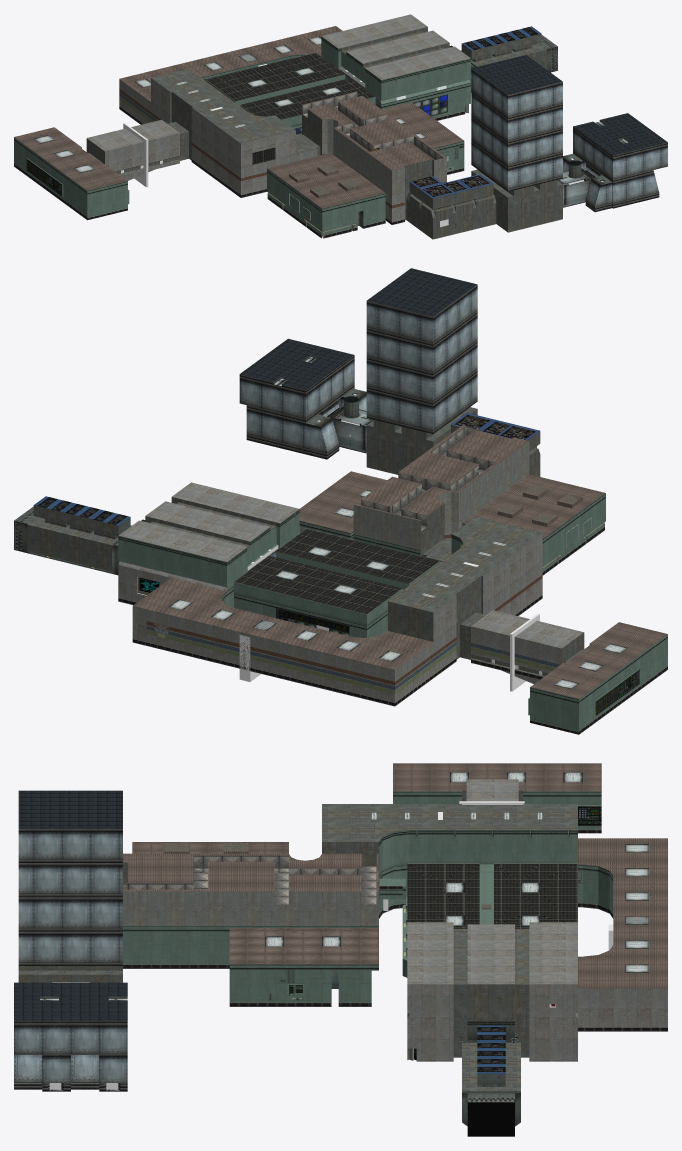
The model's file is half-_life_-_map_black_mesa.glb.
3 views of the same model, one above another, from view 1: azimuth 30°, elevation 25°; view 2: azimuth 150°, elevation 25°; view 3: azimuth 270°, elevation 25° (orthographic). The views are drawn at different scales.
Parts seen in each view (by area): view 1: HALFLIFE_C2A4E_W1B-material, HALFLIFE_C1A0_C1-material, HALFLIFE_LAB1_PANEL2-material, HALFLIFE_-0C2A4E_W1-material, HALFLIFE_LAB5_C2B-material, HALFLIFE_C1A0_LABW4-material, HALFLIFE_LAB1_C4D2-material, HALFLIFE_C1A0_W1D5-material, HALFLIFE_C1A0_LABW7-material, HALFLIFE_C1A0_LABW5-material, HALFLIFE_-1C2A4E_W1-material, HALFLIFE_DUCT_WALL02-material (+9 smaller); view 2: HALFLIFE_C1A0_C1-material, HALFLIFE_LAB1_PANEL2-material, HALFLIFE_C2A4E_W1B-material, HALFLIFE_-0C2A4E_W1-material, HALFLIFE_C1A0_W1D1-material, HALFLIFE_LAB5_C2B-material, HALFLIFE_C1A0_LABW7-material, HALFLIFE_LAB1_C4D2-material, HALFLIFE_C1A0_LABW5-material, HALFLIFE_-1C2A4E_W1-material, HALFLIFE_C1A0_LABW4-material, HALFLIFE_C1A0_W1D2-material (+10 smaller); view 3: HALFLIFE_C1A0_C1-material, HALFLIFE_LAB1_PANEL2-material, HALFLIFE_-0C2A4E_W1-material, HALFLIFE_C2A4E_W1B-material, HALFLIFE_C1A0_LABW5-material, HALFLIFE_LAB5_C2B-material, HALFLIFE_-1C2A4E_W1-material, HALFLIFE_LAB1_C4D2-material, HALFLIFE_C1A0_LABW7-material, HALFLIFE_C1A0_LABW4-material, HALFLIFE_C1A0_WX-material, HALFLIFE_DUCT_WALL02-material (+7 smaller).
Part boxes in pixels (x1,y1,x2,y2): HALFLIFE_C2A4E_W1B-material: [81, 27, 562, 239]; HALFLIFE_C1A0_C1-material: [14, 26, 463, 208]; HALFLIFE_LAB1_PANEL2-material: [471, 68, 667, 212]; HALFLIFE_-0C2A4E_W1-material: [87, 14, 470, 180]; HALFLIFE_LAB5_C2B-material: [206, 53, 375, 164]; HALFLIFE_C1A0_LABW4-material: [62, 67, 385, 238]; HALFLIFE_LAB1_C4D2-material: [471, 55, 667, 155]; HALFLIFE_C1A0_W1D5-material: [191, 132, 404, 224]; HALFLIFE_C1A0_LABW7-material: [205, 36, 470, 126]; HALFLIFE_C1A0_LABW5-material: [14, 54, 470, 219]; HALFLIFE_-1C2A4E_W1-material: [322, 119, 446, 194]; HALFLIFE_DUCT_WALL02-material: [302, 92, 443, 159]; HALFLIFE_C1A0_C1-material: [133, 425, 667, 698]; HALFLIFE_LAB1_PANEL2-material: [239, 284, 477, 459]; HALFLIFE_C2A4E_W1B-material: [27, 407, 591, 676]; HALFLIFE_-0C2A4E_W1-material: [118, 482, 583, 648]; HALFLIFE_C1A0_W1D1-material: [146, 609, 456, 706]; HALFLIFE_LAB5_C2B-material: [234, 529, 439, 614]; HALFLIFE_C1A0_LABW7-material: [118, 509, 463, 625]; HALFLIFE_LAB1_C4D2-material: [240, 268, 476, 390]; HALFLIFE_C1A0_LABW5-material: [221, 521, 667, 734]; HALFLIFE_-1C2A4E_W1-material: [353, 441, 529, 549]; HALFLIFE_C1A0_LABW4-material: [350, 493, 605, 734]; HALFLIFE_C1A0_W1D2-material: [471, 626, 561, 683]; HALFLIFE_C1A0_C1-material: [123, 763, 667, 988]; HALFLIFE_LAB1_PANEL2-material: [14, 828, 127, 1091]; HALFLIFE_-0C2A4E_W1-material: [407, 779, 577, 1061]; HALFLIFE_C2A4E_W1B-material: [18, 790, 577, 1091]; HALFLIFE_C1A0_LABW5-material: [123, 864, 613, 1006]; HALFLIFE_LAB5_C2B-material: [407, 863, 577, 928]; HALFLIFE_-1C2A4E_W1-material: [123, 891, 378, 925]; HALFLIFE_LAB1_C4D2-material: [14, 790, 127, 1020]; HALFLIFE_C1A0_LABW7-material: [379, 830, 577, 875]; HALFLIFE_C1A0_LABW4-material: [229, 791, 601, 1006]; HALFLIFE_C1A0_WX-material: [578, 988, 667, 1031]; HALFLIFE_DUCT_WALL02-material: [123, 855, 376, 904].
Size of the model in its own units: 52.5 by 15.68 by 42.06.
100 materials, 99 textured.
